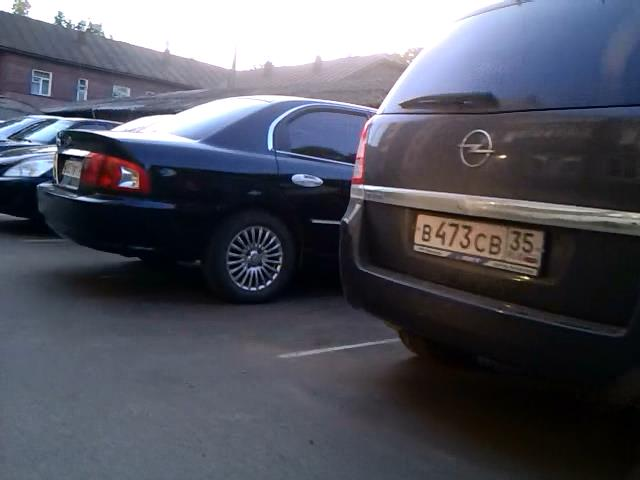car license plate: (412, 213, 546, 283), (61, 155, 83, 178)
